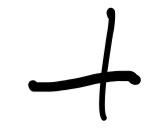plus: (29, 8, 141, 121)
